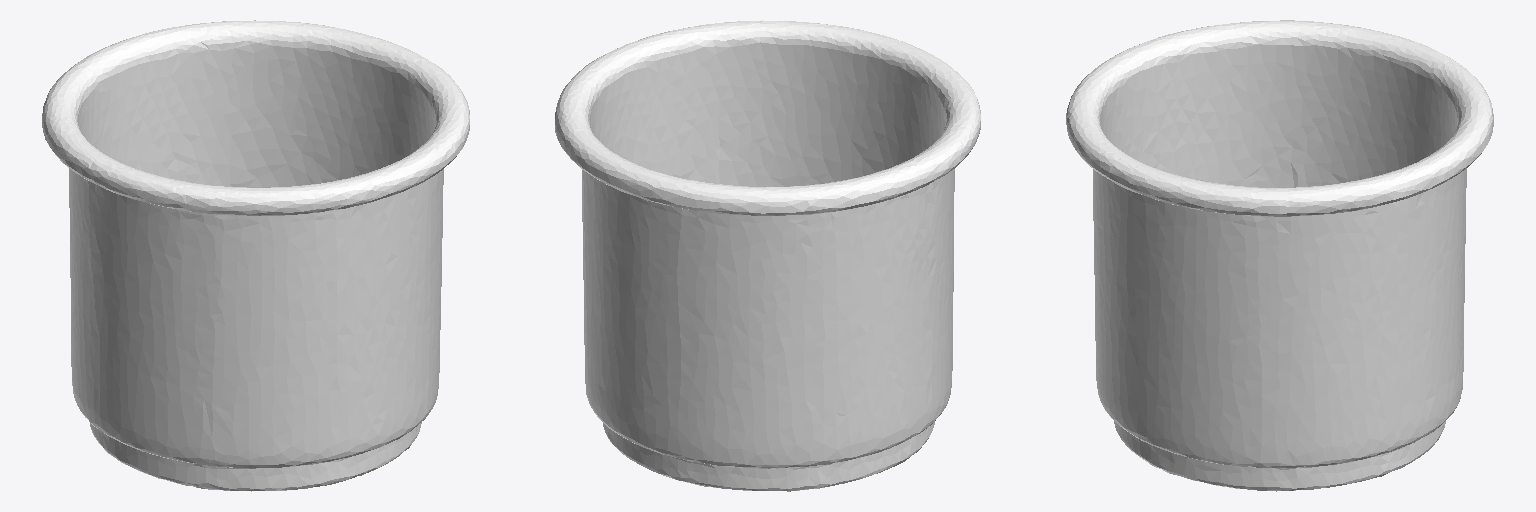
robot.urdf — 070-a_colored_wood_blocks:
<robot name="070-a_colored_wood_blocks">
	<link name="_name">
		<visual>
			<origin xyz="-0.2119015620537026 -0.08545373467665458 -0.7390911070766725" rpy="0 0 0" />
			<geometry>
				<mesh filename="070-a_colored_wood_blocks/google_16k/textured.obj" scale="10 10 10" />
			</geometry>
			<material name="texture">
				<color rgba="1.0 1.0 1.0 1.0" />
			</material>
		</visual>
		<collision>
			<geometry>
				<mesh filename="070-a_colored_wood_blocks/google_16k/textured_vhacd.obj" scale="10 10 10" />
			</geometry>
		<origin xyz="-0.2119015620537026 -0.08545373467665458 -0.7390911070766725" rpy="0 0 0" /></collision>
		<inertial>
			<mass value="1.0" />
			<inertia ixx="1.0" ixy="0.0" ixz="0.0" iyy="1.0" iyz="0.0" izz="1.0" />
		</inertial>
	</link>
</robot>

--- Render facts (derived) ---
The picture shows the robot from 3 angles, left to right: view 1: azimuth 30°, elevation 25°; view 2: azimuth 150°, elevation 25°; view 3: azimuth 270°, elevation 25°; orthographic projection.
Robot: 070-a_colored_wood_blocks — 1 links, 0 joints (none); root link _name; default pose: all joints at 0.
Visible links, largest first — view 1: _name; view 2: _name; view 3: _name.
Link boxes in pixels (left/top/right/bottom): _name: left=42, top=20, right=469, bottom=491; _name: left=555, top=20, right=980, bottom=491; _name: left=1066, top=20, right=1493, bottom=491.
Size in the robot's own frame: 0.915 by 0.9162 by 0.7506 metres.
1 mesh visuals loaded from 1 distinct referenced files (1 OBJ).